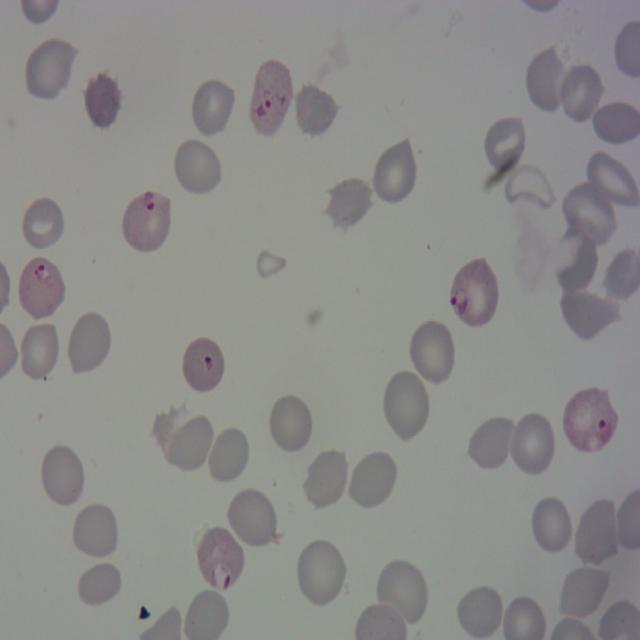leukocyte: (382, 368, 431, 444), (295, 537, 347, 608), (564, 181, 618, 248), (375, 559, 429, 626), (552, 223, 601, 296), (22, 36, 74, 102), (586, 150, 639, 214), (408, 319, 457, 387), (574, 498, 621, 568), (509, 410, 557, 478), (171, 136, 223, 198), (371, 140, 419, 207), (38, 442, 86, 508), (524, 45, 570, 113), (562, 286, 621, 339), (227, 487, 277, 548), (66, 310, 112, 376), (189, 76, 236, 139), (557, 62, 604, 125), (267, 392, 314, 455), (71, 500, 119, 561), (325, 175, 374, 232), (483, 114, 528, 176), (17, 320, 61, 383), (303, 449, 348, 510), (349, 449, 397, 506), (530, 494, 574, 556), (20, 195, 66, 254), (206, 425, 251, 485), (466, 416, 514, 472), (80, 67, 124, 128), (167, 414, 214, 471), (560, 566, 611, 618), (456, 584, 503, 639), (292, 82, 338, 137), (76, 560, 123, 608), (256, 248, 286, 280)
red blood cell: (562, 385, 619, 455), (449, 258, 500, 330), (121, 187, 173, 254), (248, 59, 294, 134), (195, 525, 245, 594), (17, 254, 66, 321)
